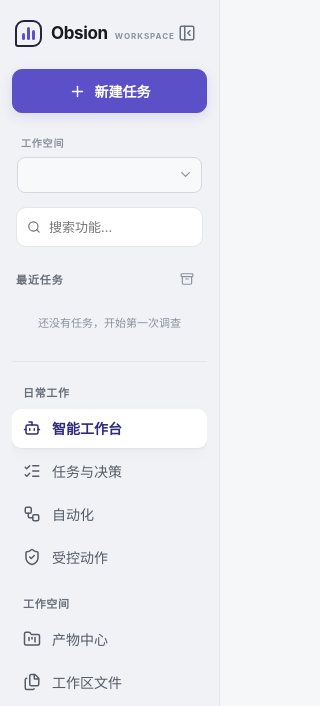
Test: 工作台布局导航 › 搜索支持分组名称且不丢失功能入口
Type "企业资源" into the field labelled "搜索功能" at (120, 227), box 49,211 -> 192,243
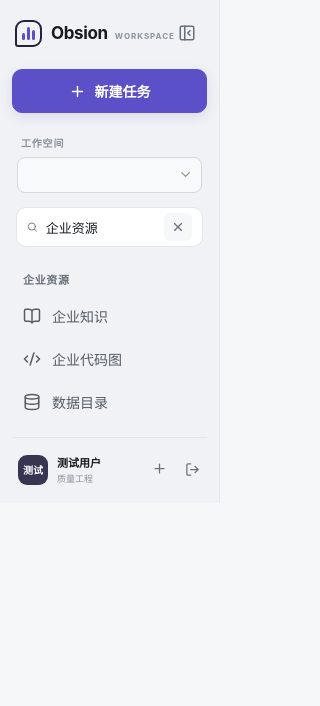
Expected: the button "企业知识" is shown, 12,296 -> 207,335
Expected: the button "企业代码图" is shown, 12,339 -> 207,378
Click the button named "清除功能搜索" at (178, 227), box 164,213 -> 192,241
(page scrolled)
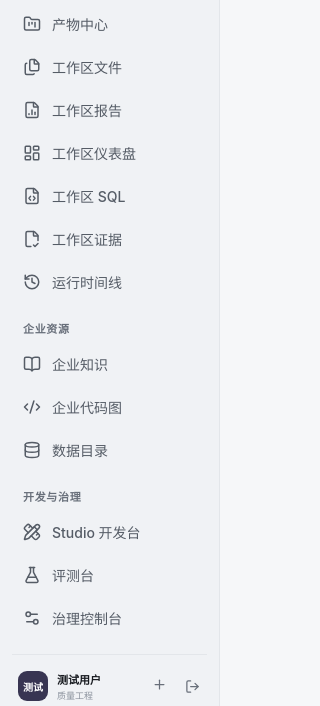
Expected: the button "治理控制台" is shown, 12,598 -> 207,638
